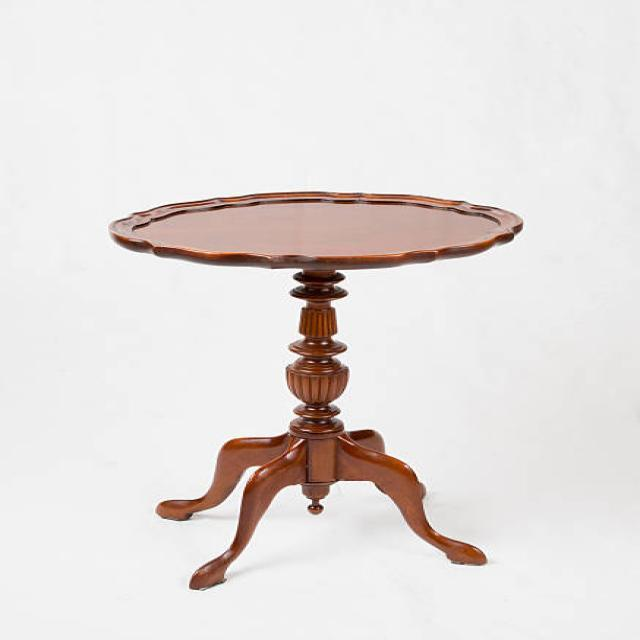table: (107, 190, 524, 590)
